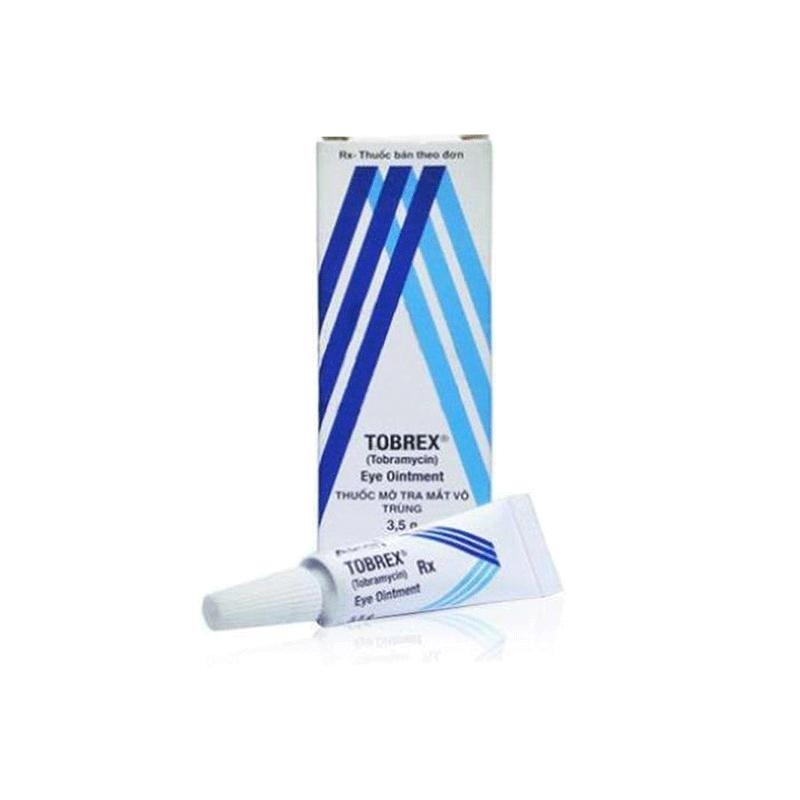Medicine: (306, 122, 510, 608), (192, 480, 580, 660)
